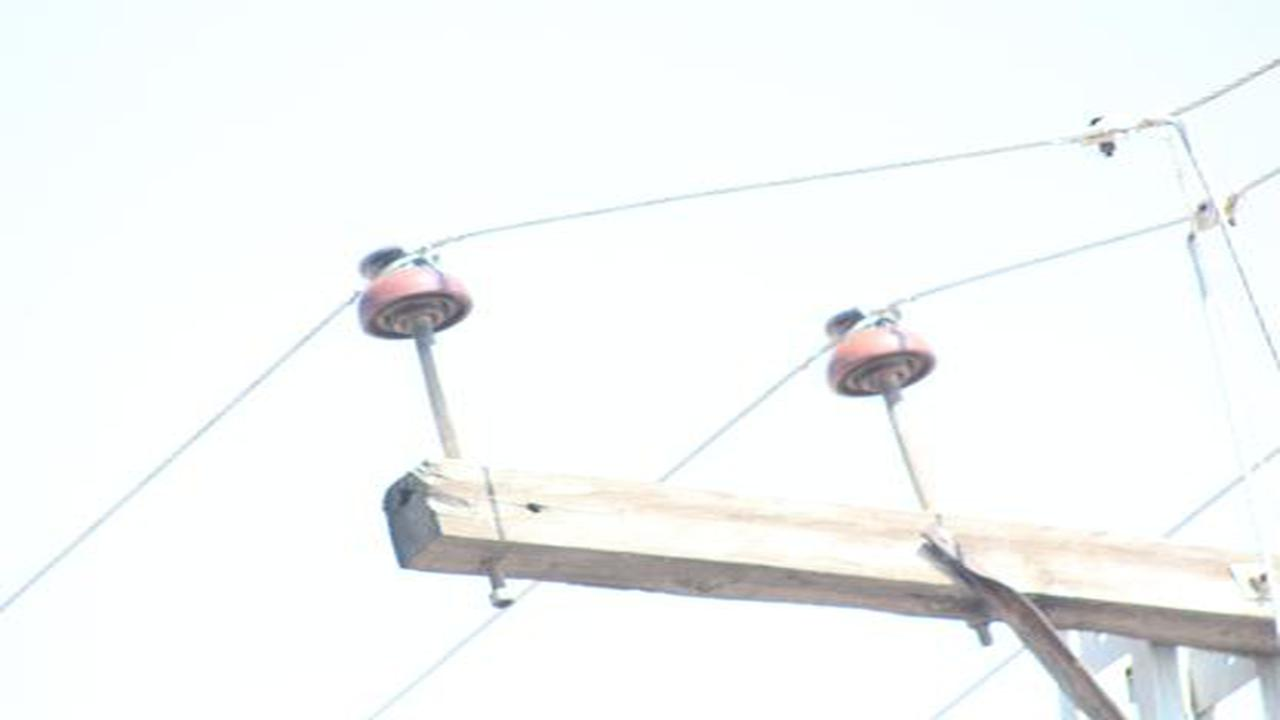insulator_pin: (352, 238, 474, 342), (818, 304, 940, 403)
